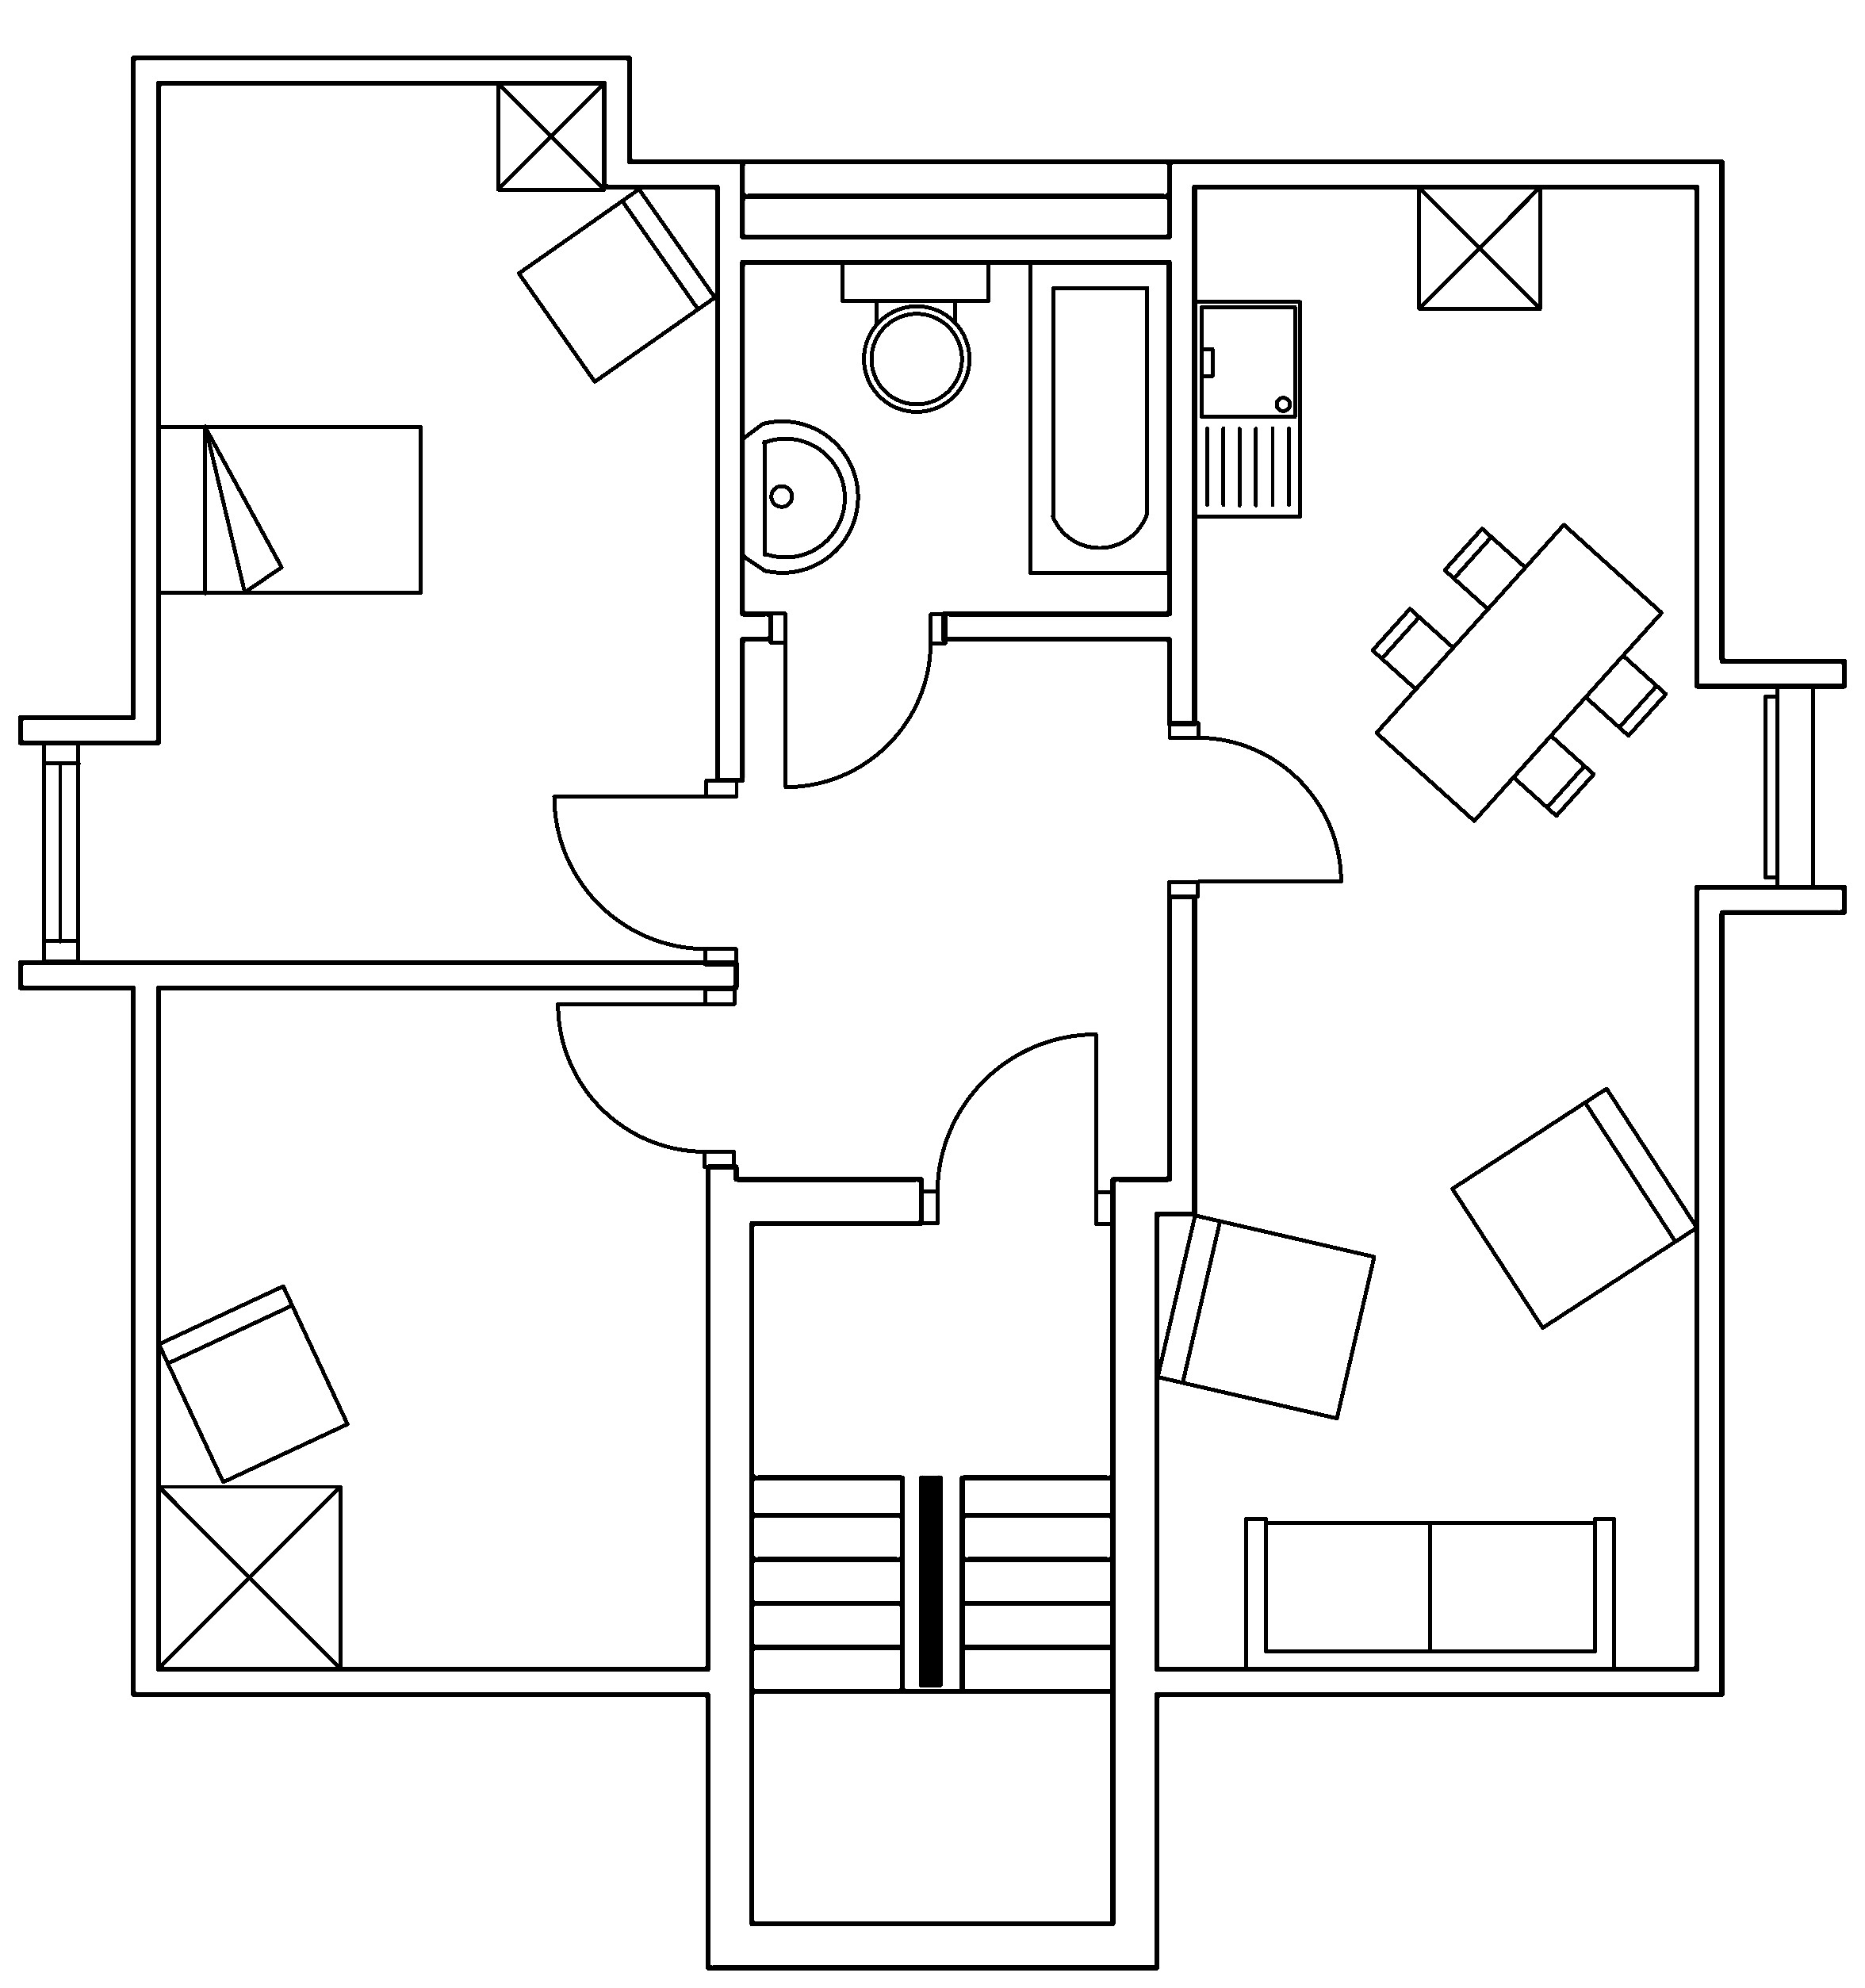bed: (154, 422, 424, 596)
coffee_table: (154, 1481, 342, 1671), (1416, 182, 1542, 310), (494, 79, 606, 191)
dining_table: (1369, 521, 1669, 824)
large_sink: (840, 258, 990, 412)
large_sofa: (1243, 1515, 1616, 1672)
sink: (1192, 298, 1302, 519)
small_sink: (740, 419, 859, 573)
small_sofa: (1448, 1085, 1698, 1331), (1153, 1211, 1376, 1420), (515, 186, 717, 384), (156, 1282, 351, 1485)
tub: (1027, 258, 1171, 575)
